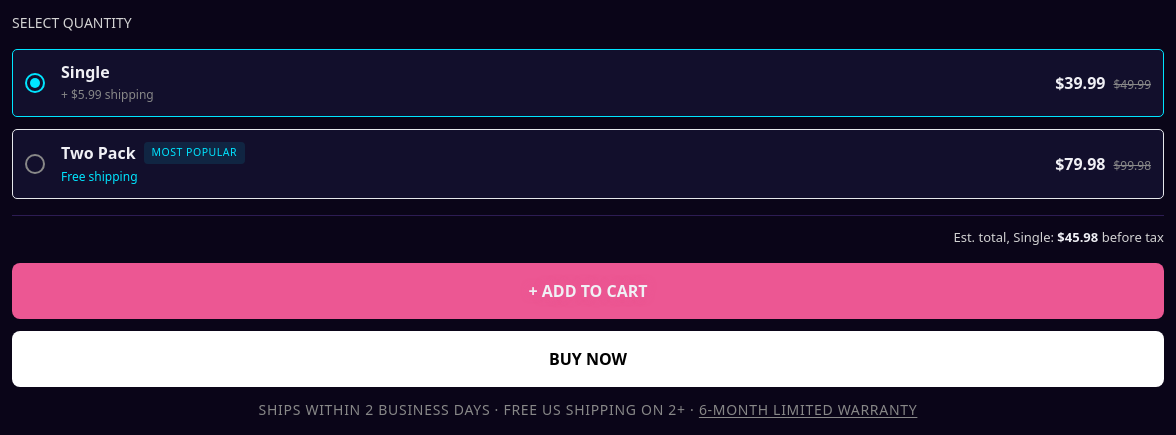
Test: estimated total › shows product plus shipping before tax for the selected offer
Expected: the element with test id "estimated-total" reads "Est. total, Single: $45.98 before tax", [12,215,1164,247]
Click the radio button labelled "Two Pack Most popular Free shipping $79.98 $99.98" at (98, 153), box [12,129,1164,199]
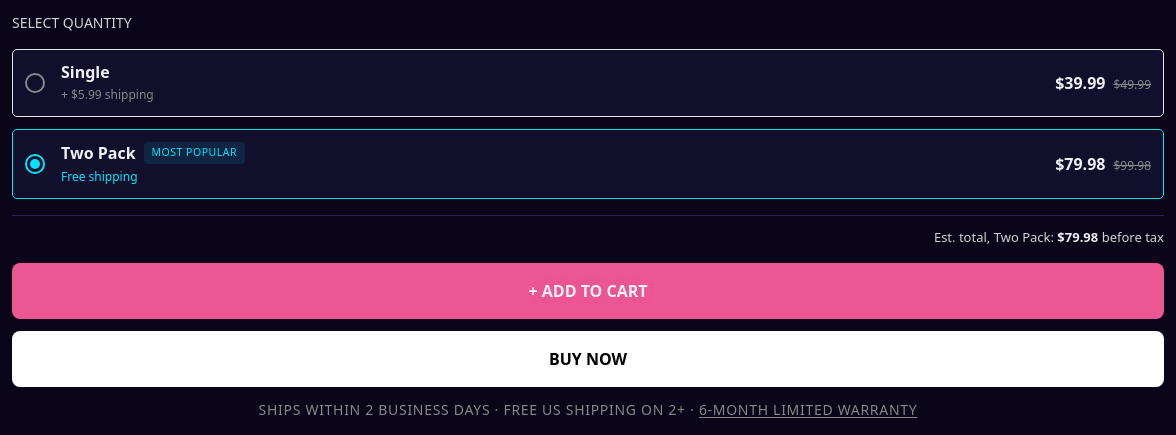
Expected: the element with test id "estimated-total" reads "Est. total, Two Pack: $79.98 before tax", [12,215,1164,247]
